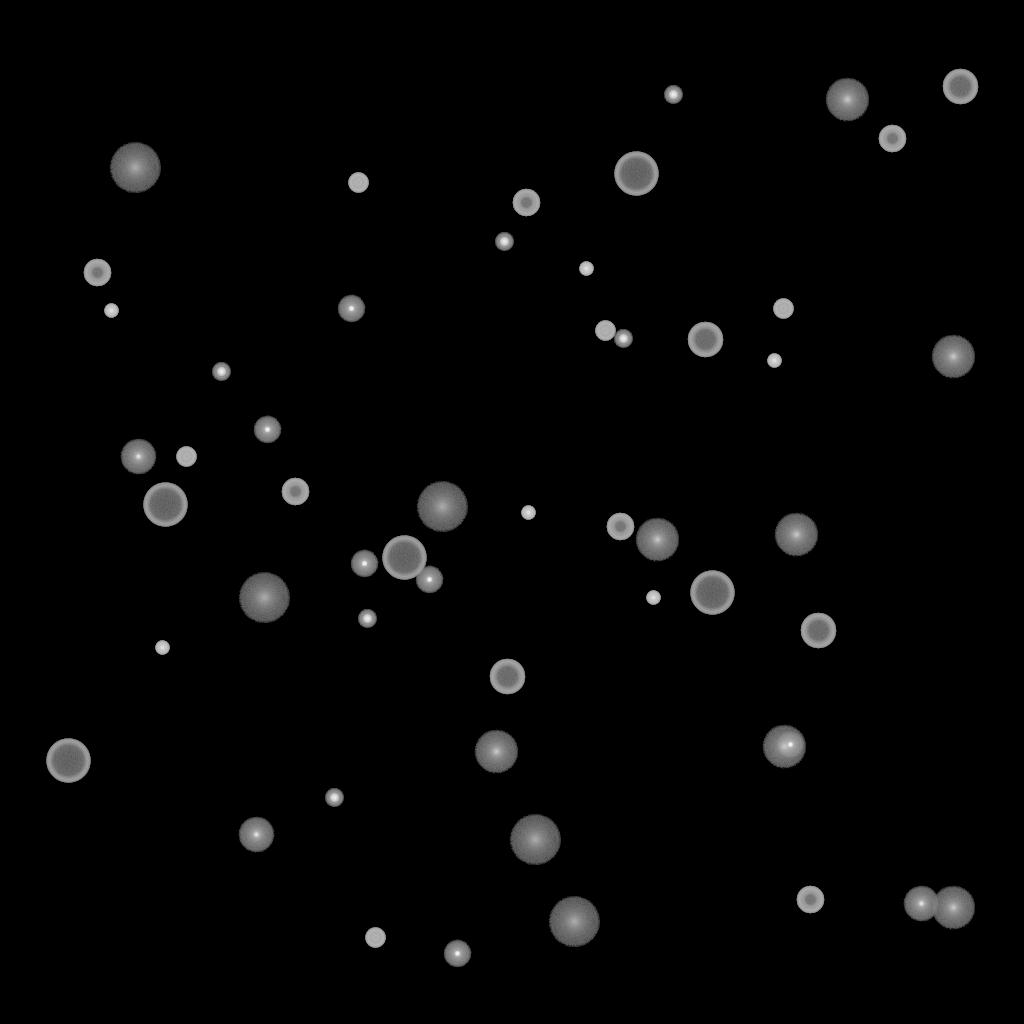depth:-10: (337, 295, 365, 323), (415, 566, 443, 594), (253, 416, 281, 444), (350, 550, 378, 578), (776, 731, 804, 759), (443, 940, 471, 968)
depth:-20: (358, 610, 376, 628), (495, 233, 513, 251), (325, 789, 343, 807), (212, 363, 230, 381), (614, 330, 632, 348), (664, 86, 682, 104)
depth:-30: (579, 262, 593, 276), (155, 641, 169, 655), (767, 354, 781, 368), (104, 304, 118, 318), (521, 506, 535, 520), (646, 591, 660, 605)
depth:-40: (595, 321, 615, 341), (348, 173, 368, 193), (773, 299, 793, 319), (176, 447, 196, 467), (365, 928, 385, 948)
depth:-50: (606, 513, 634, 541), (878, 125, 906, 153), (796, 886, 824, 914), (512, 189, 540, 217), (83, 259, 111, 287), (281, 478, 309, 506)
depth:-60: (489, 659, 525, 695), (942, 69, 978, 105), (687, 322, 723, 358), (800, 613, 836, 649)
depth:-70: (382, 536, 426, 580), (690, 571, 734, 615), (46, 739, 90, 783), (143, 483, 187, 527), (614, 152, 658, 196)
depth:0: (903, 886, 939, 922), (120, 439, 156, 475), (238, 817, 274, 853)
depth:10: (931, 886, 975, 930), (635, 518, 679, 562), (762, 725, 806, 769), (825, 78, 869, 122), (474, 730, 518, 774), (931, 335, 975, 379), (774, 513, 818, 557)
depth:20: (548, 897, 600, 947), (416, 482, 468, 532), (238, 573, 290, 623), (509, 815, 561, 865), (109, 143, 161, 193)
